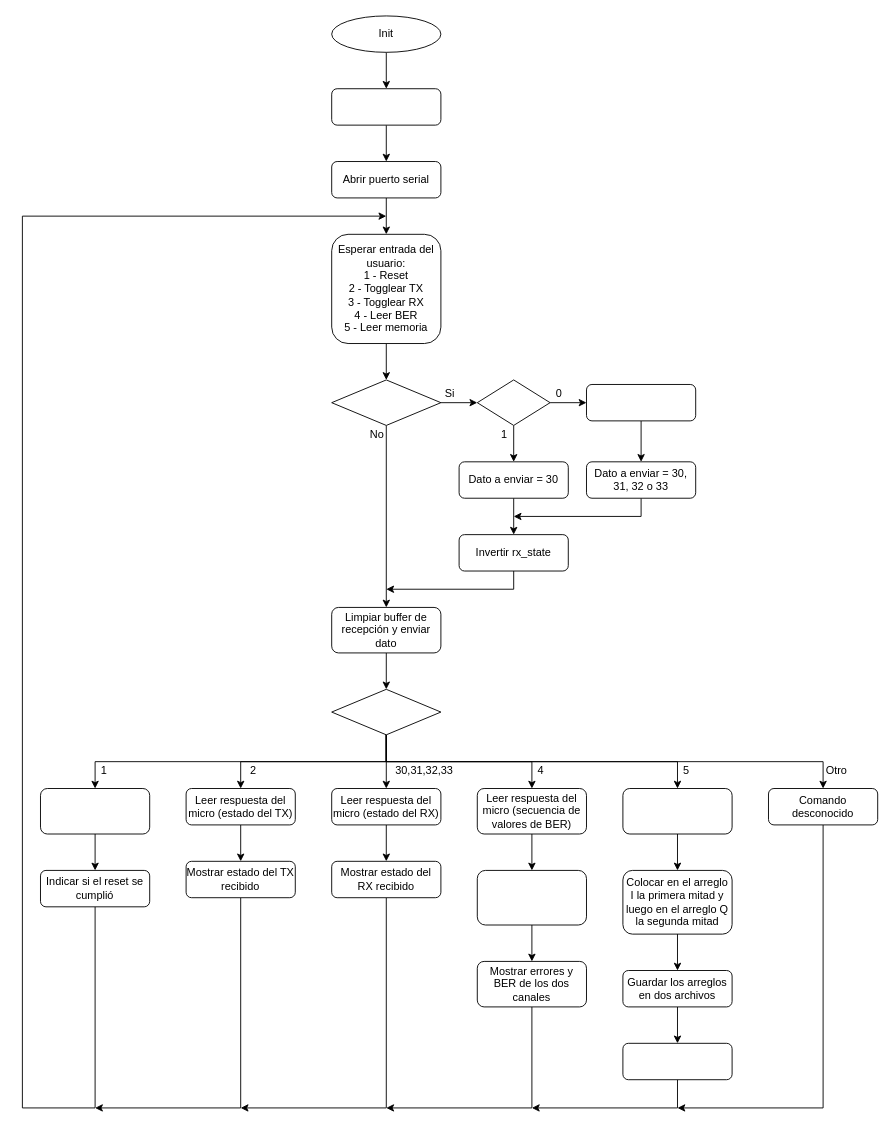
Some shapes in this 894 by 1131 pixel diagram are drawn without their labels. The shapes that lost their labels are listed below. From the top down, each one's box as (x1, y1, x2, y2) in pixels, then its label:
(331, 88, 441, 125): rx_state = 0
(331, 379, 441, 425): Entrada = 3
(476, 379, 550, 425): rx_state
(586, 384, 696, 421): Esperar entrada para la fase: 0,1,2,3
(331, 688, 441, 735): Entrada
(40, 788, 150, 834): Leer respuesta del micro (byte de confirmacion)
(622, 788, 732, 834): Leer respuesta del micro (datos del canal I y luego del Q)
(476, 870, 586, 925): Ordenar los bytes en los arreglos correspondientes y calcular la division
(622, 1042, 732, 1080): Generar y guardar un plot de los arreglos
